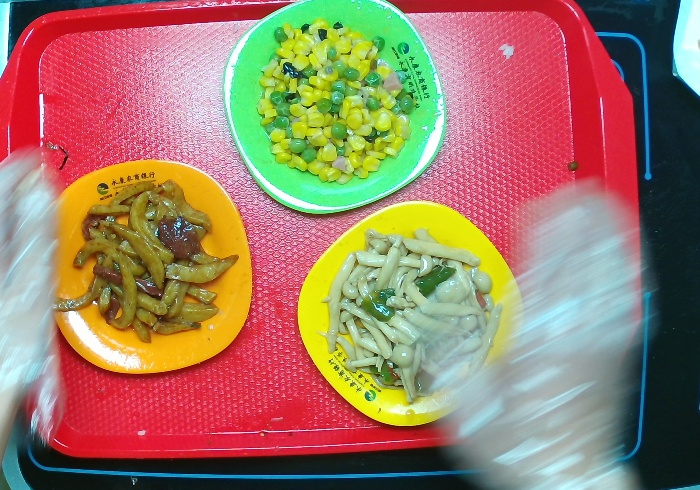YKMZ-Huang_Se_Fang_Die: (292, 195, 538, 434)
YKMZ-Ju_Se_Fang_Die: (33, 151, 279, 389)
YKMZ-Lv_Se_Fang_Die: (209, 1, 455, 219)
